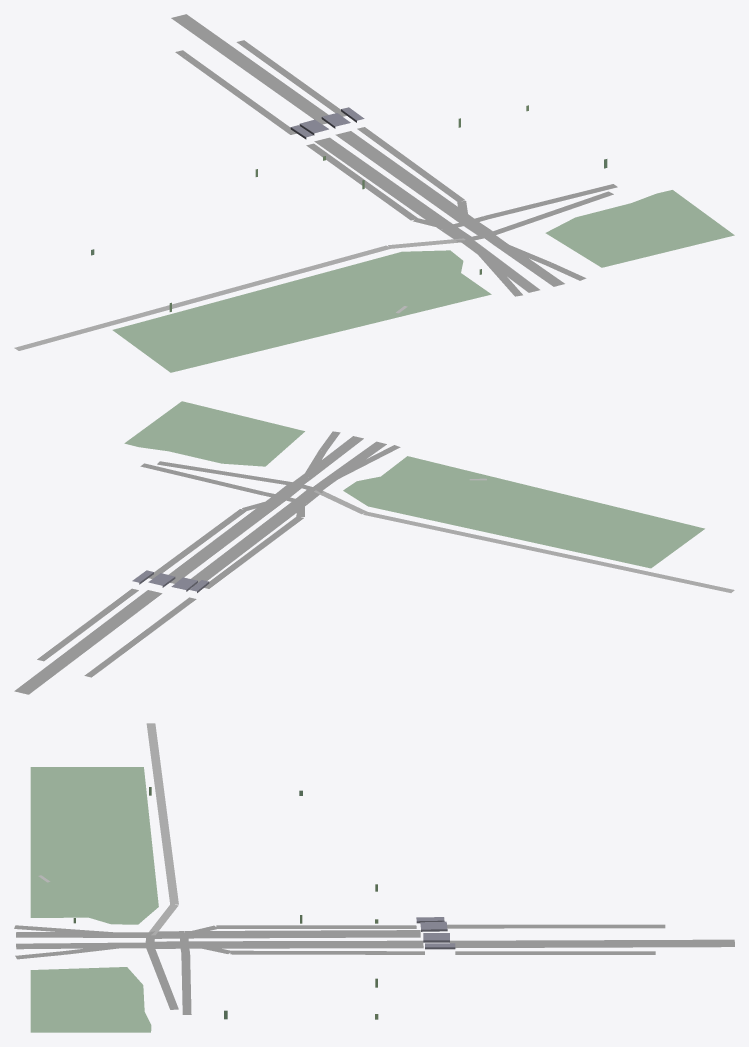
3 renders of one model, top to bottom at view 1: azimuth 30°, elevation 25°; view 2: azimuth 150°, elevation 25°; view 3: azimuth 270°, elevation 25°, orthographic. The views are drawn at different scales.
Size of the model in its own units: 582 by 8.96 by 573.
